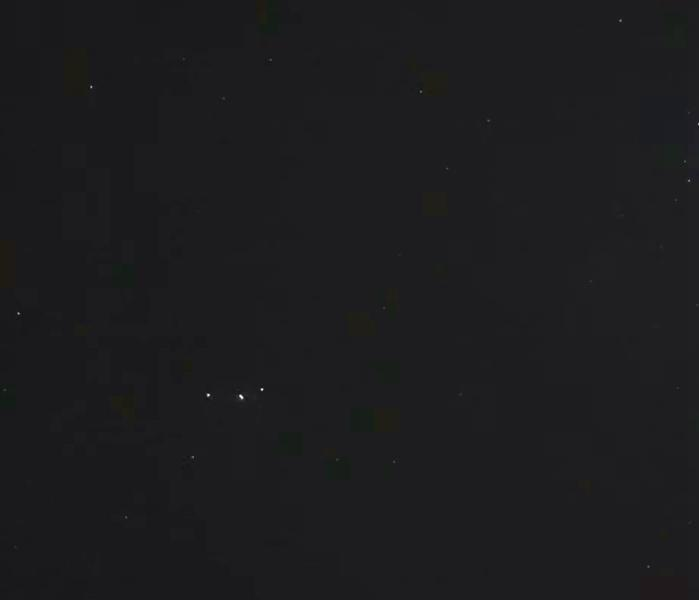Plane: (191, 376, 282, 408)
